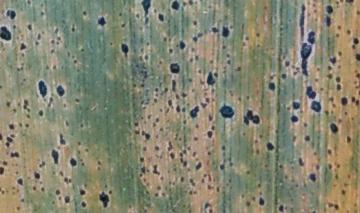tarspot: (299, 39, 313, 79), (240, 108, 261, 127), (297, 3, 306, 41), (140, 1, 152, 27), (218, 103, 236, 120), (97, 190, 111, 210), (36, 78, 49, 99), (205, 67, 218, 86), (49, 146, 60, 167), (2, 133, 17, 147), (119, 42, 130, 61), (305, 84, 317, 101), (1, 24, 13, 41), (168, 60, 181, 75), (188, 104, 200, 120), (57, 130, 69, 146), (95, 14, 108, 28), (3, 8, 17, 21), (170, 77, 179, 97), (55, 84, 67, 99), (306, 29, 316, 46), (151, 162, 163, 176), (311, 100, 322, 114), (21, 97, 32, 111), (307, 169, 317, 184), (220, 24, 230, 39), (329, 122, 340, 135), (324, 3, 335, 16), (290, 64, 301, 77), (68, 156, 79, 169), (8, 150, 21, 161), (296, 155, 306, 169), (322, 14, 332, 28), (265, 140, 276, 152), (339, 95, 349, 108), (194, 160, 204, 173), (169, 1, 182, 11), (291, 100, 302, 111), (176, 40, 187, 51), (35, 108, 46, 119), (256, 195, 266, 207), (328, 54, 338, 66), (166, 96, 174, 111), (62, 194, 72, 206), (62, 175, 74, 185), (15, 175, 25, 187), (17, 42, 29, 52), (267, 81, 276, 94), (165, 139, 174, 152), (289, 114, 300, 124), (77, 187, 88, 197), (187, 176, 196, 188), (7, 120, 16, 132), (4, 98, 13, 110), (52, 25, 61, 37), (345, 133, 353, 146), (199, 100, 209, 110), (325, 70, 334, 81), (210, 25, 219, 36), (32, 170, 41, 181), (140, 164, 148, 176), (70, 21, 77, 34), (333, 74, 342, 84), (283, 59, 292, 69), (71, 95, 81, 104), (38, 159, 47, 169), (15, 64, 25, 73), (339, 186, 347, 197), (204, 202, 212, 213), (180, 90, 188, 101), (157, 12, 165, 23), (207, 112, 214, 124), (71, 57, 80, 66), (79, 200, 88, 209), (191, 34, 199, 44), (218, 162, 226, 172), (187, 187, 195, 197), (193, 53, 201, 63), (53, 187, 61, 197), (18, 196, 28, 204), (35, 32, 43, 42), (63, 118, 71, 128), (193, 120, 200, 131), (169, 151, 176, 162), (175, 104, 182, 115), (49, 45, 56, 56), (26, 22, 33, 33), (235, 65, 243, 74), (207, 172, 213, 184), (57, 169, 65, 178), (138, 155, 146, 164), (157, 125, 165, 134), (144, 133, 152, 142), (138, 81, 146, 90), (1, 165, 7, 177), (1, 159, 10, 167), (16, 120, 24, 129), (352, 36, 359, 46), (258, 130, 265, 140), (226, 58, 233, 68), (273, 126, 280, 136), (206, 129, 213, 139), (208, 56, 215, 66), (167, 46, 174, 56), (65, 49, 72, 59), (78, 157, 85, 167), (51, 62, 58, 72), (47, 38, 57, 45), (354, 51, 360, 62), (179, 173, 185, 184), (182, 159, 188, 170), (80, 9, 88, 17), (78, 46, 86, 54), (75, 139, 83, 147), (75, 148, 83, 156), (153, 144, 161, 152), (132, 120, 140, 128), (30, 184, 38, 192), (326, 147, 333, 156), (304, 134, 311, 143), (350, 95, 357, 104), (335, 83, 342, 92), (281, 72, 288, 81), (180, 105, 187, 114), (161, 35, 168, 44), (134, 11, 141, 20), (96, 164, 103, 173), (146, 113, 153, 122), (324, 108, 330, 118), (215, 184, 221, 194), (1, 184, 6, 196), (327, 201, 334, 209), (244, 200, 251, 208), (263, 162, 270, 170), (254, 31, 261, 39), (236, 95, 243, 103), (220, 144, 227, 152), (206, 184, 214, 191), (191, 189, 199, 196), (191, 151, 198, 159), (178, 151, 185, 159), (212, 70, 219, 78), (189, 47, 197, 54), (174, 93, 181, 101), (116, 11, 124, 18), (107, 187, 114, 195), (61, 101, 68, 109), (156, 184, 163, 192), (141, 145, 148, 153), (133, 129, 141, 136), (131, 81, 138, 89), (278, 203, 284, 212), (327, 162, 333, 171), (186, 144, 192, 153), (204, 97, 213, 103), (96, 158, 102, 167), (151, 120, 157, 129), (143, 53, 149, 62), (5, 140, 11, 149), (24, 1, 33, 7), (355, 71, 360, 81), (119, 22, 126, 29), (78, 122, 85, 129), (187, 77, 194, 84), (15, 204, 22, 211), (44, 64, 51, 71), (38, 10, 45, 17), (333, 203, 339, 211), (334, 173, 340, 181), (354, 99, 360, 107), (346, 28, 352, 36), (245, 93, 251, 101), (268, 73, 274, 81), (192, 19, 198, 27), (200, 177, 206, 185), (202, 172, 208, 180), (182, 148, 188, 156), (182, 118, 188, 126), (187, 1, 195, 7), (179, 2, 187, 8), (108, 39, 114, 47), (84, 146, 90, 154), (152, 97, 158, 105), (163, 86, 169, 94), (154, 86, 160, 94), (24, 122, 30, 130), (12, 107, 18, 115), (284, 172, 289, 181), (343, 108, 348, 117), (355, 8, 360, 17), (256, 147, 261, 156), (344, 1, 355, 5), (278, 163, 284, 170), (249, 195, 256, 201), (240, 192, 246, 199), (245, 169, 251, 176), (350, 45, 357, 51), (335, 33, 341, 40), (207, 150, 213, 157), (196, 67, 202, 74), (188, 57, 194, 64), (160, 191, 166, 198), (154, 191, 160, 198), (160, 175, 166, 182), (145, 41, 152, 47), (134, 62, 140, 69), (34, 40, 40, 47), (347, 172, 352, 180), (286, 104, 291, 112), (241, 40, 246, 48), (229, 161, 234, 169), (146, 167, 151, 175), (329, 96, 335, 102), (334, 1, 340, 7), (228, 24, 234, 30), (193, 136, 199, 142), (21, 77, 27, 83), (20, 53, 26, 59), (295, 183, 300, 190), (257, 182, 262, 189), (303, 121, 308, 128), (332, 102, 337, 109), (316, 65, 321, 72), (222, 44, 227, 51), (40, 186, 45, 193), (336, 163, 341, 169), (354, 166, 359, 172), (337, 25, 342, 31), (208, 208, 214, 213), (26, 113, 31, 119), (351, 115, 355, 122), (1, 130, 3, 144), (1, 82, 4, 91), (313, 151, 318, 156), (330, 110, 335, 115), (354, 201, 357, 208), (310, 210, 317, 213), (355, 86, 360, 90), (320, 87, 324, 92)
